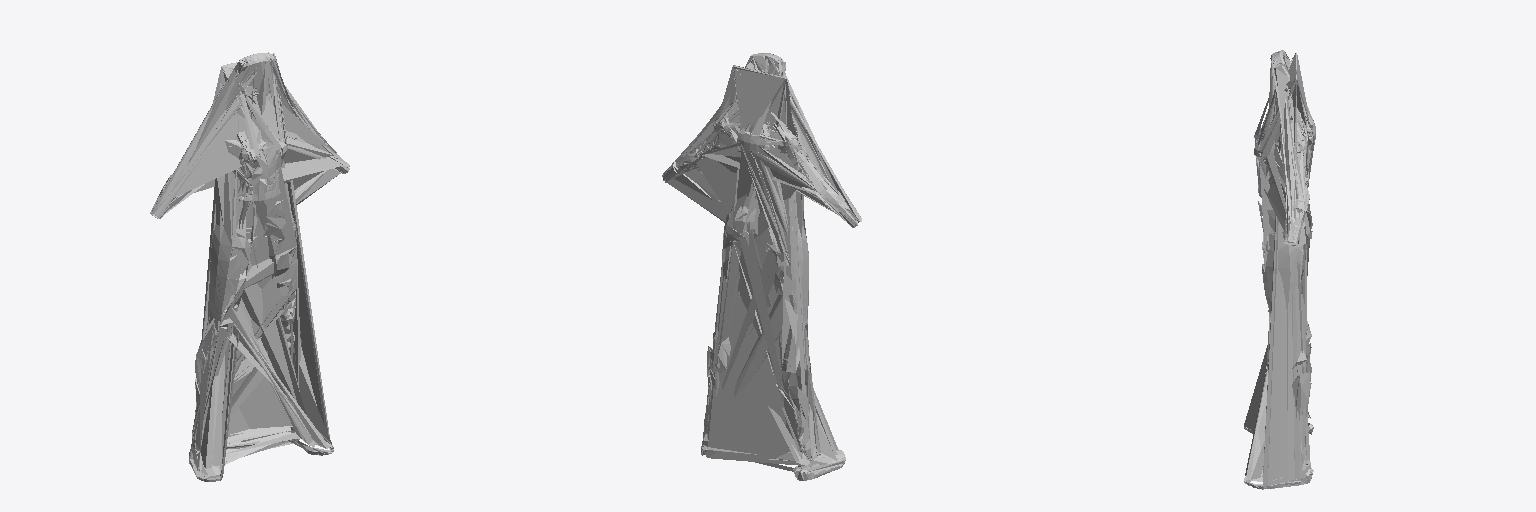
Rendered from horse.obj.
3 views of the same model, side by side, from view 1: azimuth 30°, elevation 25°; view 2: azimuth 150°, elevation 25°; view 3: azimuth 270°, elevation 25° (orthographic).
Parts seen in each view (by area): view 1: Model001_31_dvaem_1_0_0, Model001_24_dva!!!_1_0_0, Model001_24_dva!2nPart!_1_0_0, Model001_24_dva!!3nPart!_1_0_0, Model001_27_hair!!!_0.2_0_0, Model001_24_dva1nPart!_1_0_0, Model001_27_eye_0.4_0_0; view 2: Model001_31_dvaem_1_0_0, Model001_24_dva!!!_1_0_0, Model001_24_dva!2nPart!_1_0_0, Model001_24_dva!!3nPart!_1_0_0, Model001_24_dva1nPart!_1_0_0, Model001_27_eye_0.4_0_0, Model001_27_hair1nPart!_0.2_0_0, Model001_27_hair!!3nPart!_0.2_0_0, Model001_27_hair!2nPart!_0.2_0_0; view 3: Model001_31_dvaem_1_0_0, Model001_24_dva!!!_1_0_0, Model001_24_dva!!3nPart!_1_0_0, Model001_24_dva1nPart!_1_0_0, Model001_24_dva!2nPart!_1_0_0, Model001_27_hair!!!_0.2_0_0, Model001_7_logo_1_0_0.
Boxes of the visible parts, <box> form: Model001_31_dvaem_1_0_0: <box>151,56,349,481</box>; Model001_24_dva!!!_1_0_0: <box>150,53,348,481</box>; Model001_24_dva!2nPart!_1_0_0: <box>154,53,343,307</box>; Model001_24_dva!!3nPart!_1_0_0: <box>150,52,349,320</box>; Model001_27_hair!!!_0.2_0_0: <box>211,53,296,320</box>; Model001_24_dva1nPart!_1_0_0: <box>151,53,348,352</box>; Model001_27_eye_0.4_0_0: <box>213,67,295,317</box>; Model001_31_dvaem_1_0_0: <box>662,54,860,480</box>; Model001_24_dva!!!_1_0_0: <box>663,53,861,480</box>; Model001_24_dva!2nPart!_1_0_0: <box>663,53,860,313</box>; Model001_24_dva!!3nPart!_1_0_0: <box>662,54,861,318</box>; Model001_24_dva1nPart!_1_0_0: <box>664,53,861,430</box>; Model001_27_eye_0.4_0_0: <box>734,66,806,279</box>; Model001_27_hair1nPart!_0.2_0_0: <box>663,67,849,313</box>; Model001_27_hair!!3nPart!_0.2_0_0: <box>743,147,808,316</box>; Model001_27_hair!2nPart!_0.2_0_0: <box>737,142,808,308</box>; Model001_31_dvaem_1_0_0: <box>1244,51,1312,489</box>; Model001_24_dva!!!_1_0_0: <box>1244,50,1315,488</box>; Model001_24_dva!!3nPart!_1_0_0: <box>1254,50,1314,295</box>; Model001_24_dva1nPart!_1_0_0: <box>1256,50,1315,461</box>; Model001_24_dva!2nPart!_1_0_0: <box>1254,55,1315,301</box>; Model001_27_hair!!!_0.2_0_0: <box>1260,68,1314,262</box>; Model001_7_logo_1_0_0: <box>1266,125,1315,293</box>.
Bounding box in the file's own units: 0.7913 × 1.54 × 0.2512.